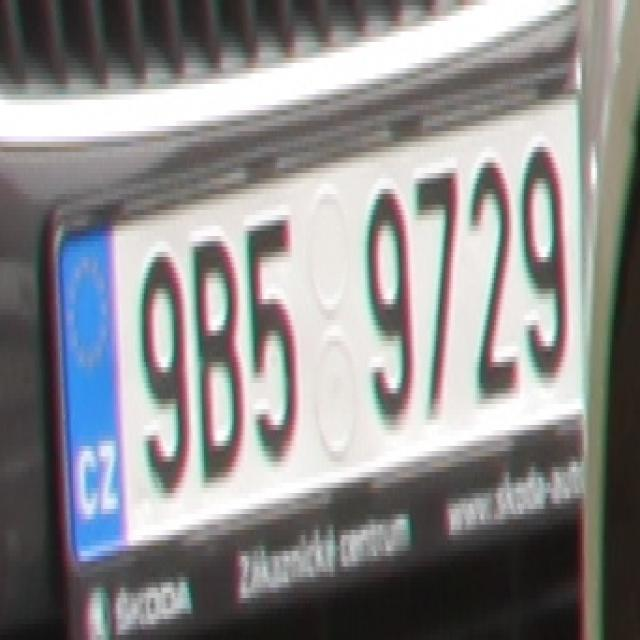2: (468, 147, 516, 399)
5: (245, 210, 301, 482)
7: (416, 162, 460, 430)
9: (134, 241, 190, 493), (516, 136, 569, 399), (361, 178, 412, 424)
B: (190, 225, 246, 482)
